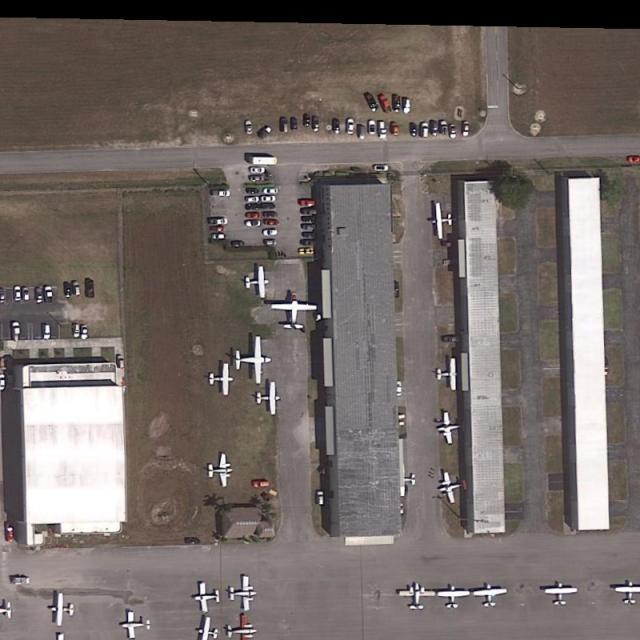vehicle: (378, 94, 394, 114), (366, 94, 381, 114), (251, 156, 278, 166), (11, 321, 22, 342), (258, 126, 273, 140), (6, 523, 16, 542), (207, 217, 228, 226), (402, 98, 413, 115), (44, 285, 54, 303), (601, 357, 610, 377), (378, 121, 387, 140), (393, 95, 402, 114), (35, 286, 44, 305), (373, 164, 391, 173), (392, 281, 401, 299), (211, 190, 231, 198), (245, 219, 261, 229), (73, 281, 82, 298), (262, 229, 279, 238), (312, 115, 320, 134), (442, 336, 461, 344), (116, 354, 126, 369), (245, 120, 254, 136), (332, 119, 341, 135), (390, 122, 399, 138), (409, 122, 418, 138), (421, 122, 430, 138), (462, 122, 471, 138), (86, 280, 94, 298), (64, 283, 73, 299), (248, 175, 266, 183), (300, 199, 316, 208), (252, 480, 270, 488), (184, 538, 201, 546), (347, 118, 355, 135), (431, 121, 439, 138), (14, 286, 22, 303), (301, 207, 318, 215), (298, 248, 315, 256), (395, 380, 403, 397), (281, 119, 290, 134), (262, 210, 277, 219), (302, 214, 317, 223), (259, 195, 278, 202), (43, 324, 51, 340), (262, 239, 278, 247), (302, 231, 318, 239), (368, 121, 377, 135), (301, 238, 315, 247), (316, 491, 325, 505), (290, 117, 298, 132), (440, 121, 448, 136), (250, 167, 265, 175), (73, 324, 81, 339), (81, 325, 89, 340), (22, 287, 30, 302), (230, 241, 245, 249), (358, 126, 366, 140), (264, 219, 280, 226), (246, 203, 260, 211), (260, 203, 276, 210), (626, 155, 640, 163), (450, 124, 457, 139), (263, 187, 278, 194), (246, 187, 259, 195), (1, 287, 7, 304), (304, 114, 311, 128), (212, 234, 226, 241), (246, 211, 260, 218), (245, 196, 259, 203), (302, 224, 318, 230), (1, 373, 6, 390), (211, 226, 225, 232)
